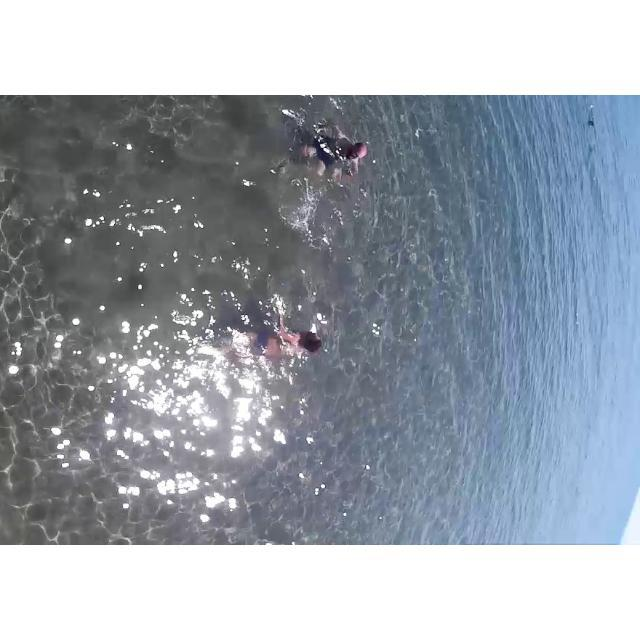human: (223, 290, 332, 390), (261, 116, 364, 211)
